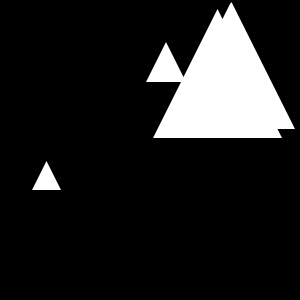triangle: (153, 9, 282, 138), (168, 2, 295, 129), (168, 3, 293, 128), (146, 42, 186, 82), (32, 161, 61, 190)
